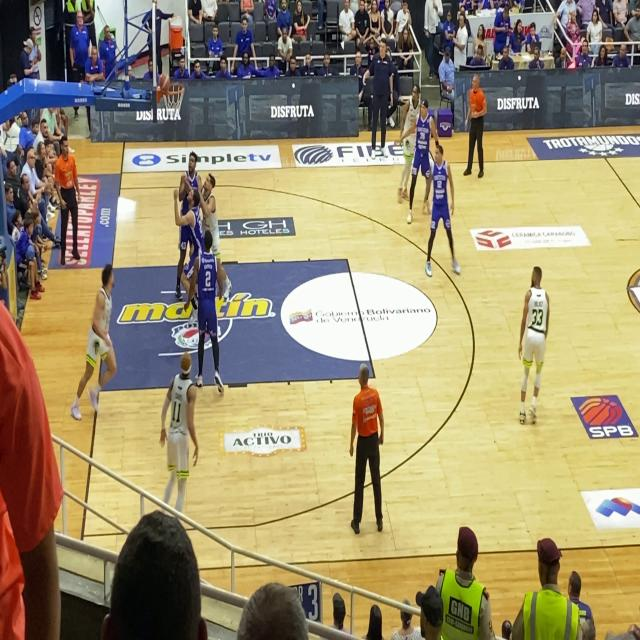Ball: (152, 68, 170, 97)
referee: (345, 356, 392, 549), (57, 120, 81, 275), (462, 70, 492, 190)
team1: (158, 348, 205, 517), (74, 259, 120, 427), (512, 245, 550, 436), (395, 79, 420, 211), (202, 170, 230, 243)
team2: (189, 228, 230, 396), (418, 131, 462, 285), (408, 98, 437, 219), (175, 188, 208, 237), (177, 146, 203, 190)
ubasket: (161, 82, 186, 120)
